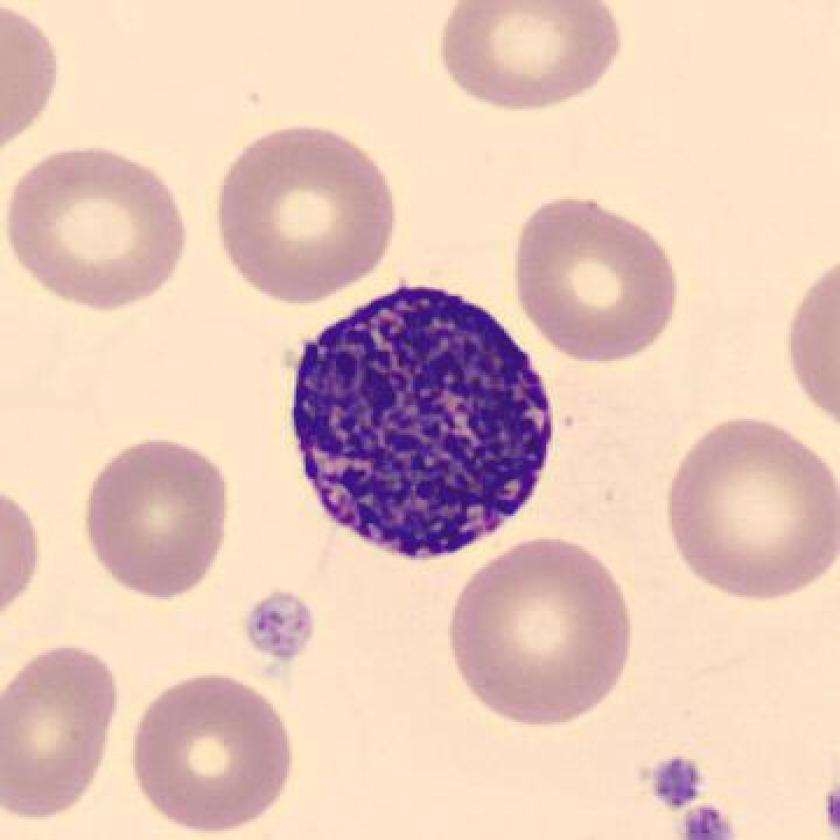basophil: (277, 279, 578, 577)
